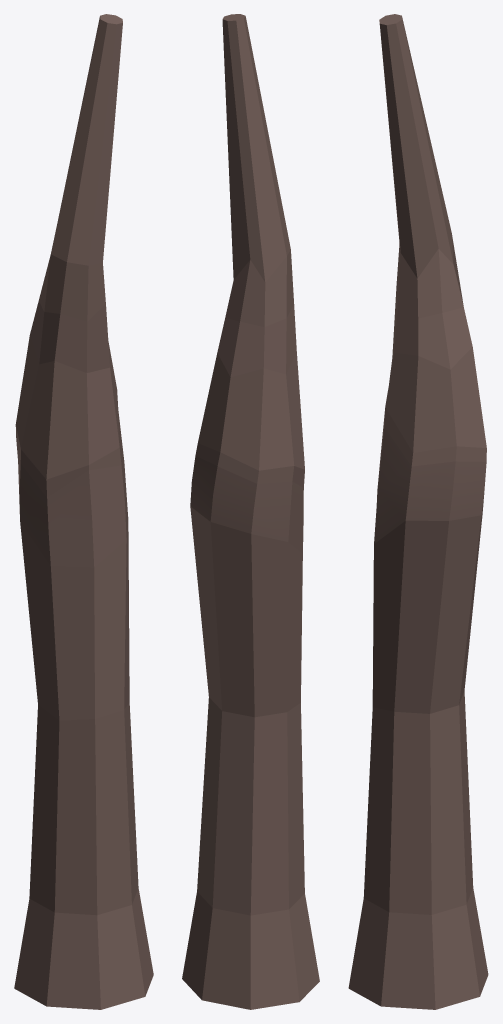
Rendered from Boom_dood1.fbx.
3 renders of one model, left to right at view 1: azimuth 90°, elevation 25°; view 2: azimuth 210°, elevation 25°; view 3: azimuth 270°, elevation 25°, orthographic.
Visible parts, largest first — view 1: pasted__Mesh3; view 2: pasted__Mesh3; view 3: pasted__Mesh3.
Boxes of the visible parts, left/top/right/bottom form: pasted__Mesh3: left=14, top=14, right=153, bottom=1009; pasted__Mesh3: left=182, top=14, right=319, bottom=1009; pasted__Mesh3: left=348, top=14, right=488, bottom=1009.
Size of the model in its own units: 0.00447 by 0.0355 by 0.00467.
